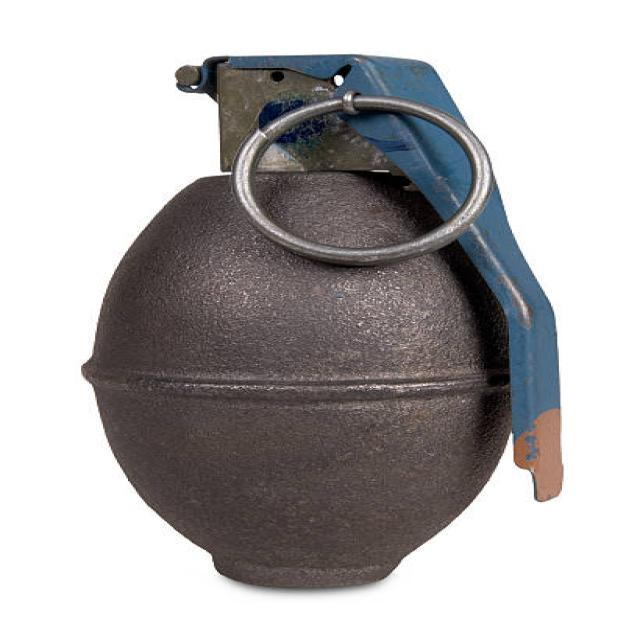grenade: (74, 47, 592, 611)
